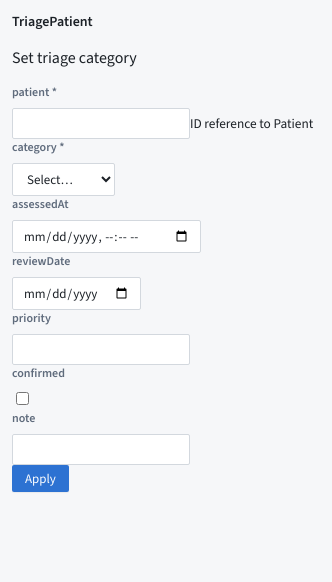
Scenario: submitting › reports a field-less refusal as a form-level alert
Type "p-1" into the field labelled "patient *".
click(101, 124); type("p-1")  # box [12,108,190,139]
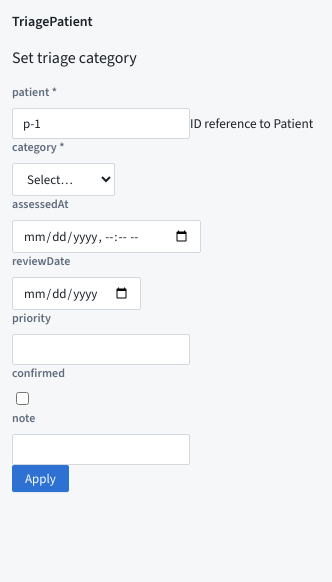
Select "URGENT" in the dropdown labelled "category *" at point(64, 180), box [12,163,115,196]
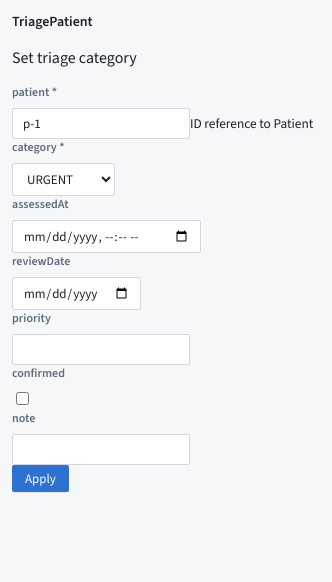
Click the button "Apply".
click(40, 479)  # box [12,465,69,492]
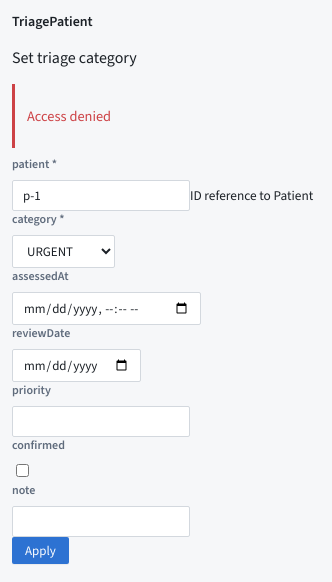
Result: the message reads "Access denied" at [27,107,111,126]
